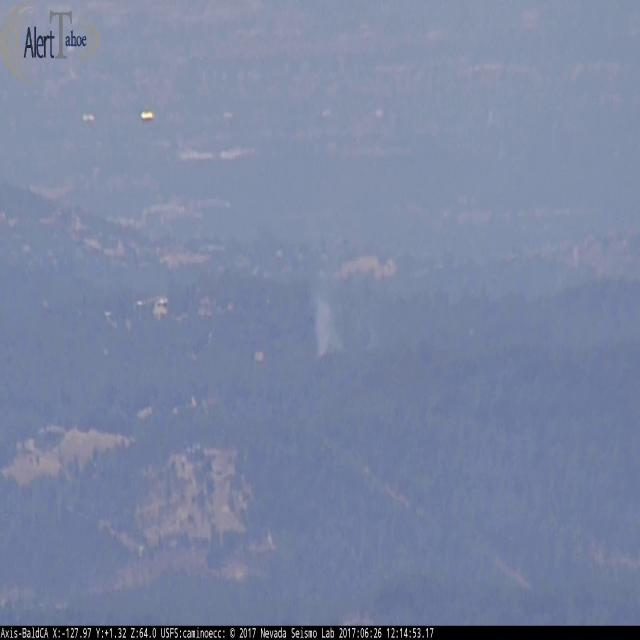smoke: (307, 246, 384, 368)
